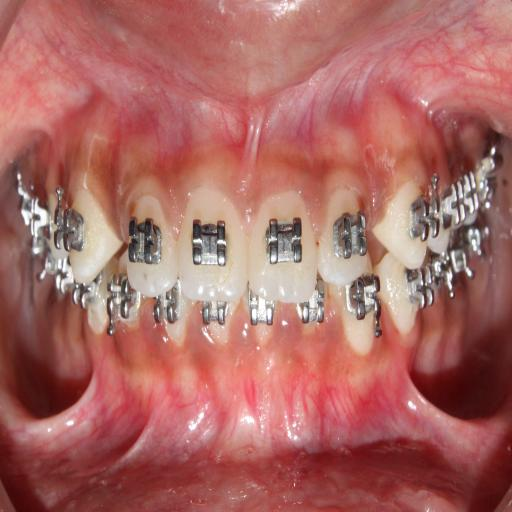correct_brace: (126, 212, 165, 276), (262, 212, 307, 265), (191, 216, 229, 272), (331, 208, 368, 261), (408, 188, 442, 243), (51, 206, 88, 256)
incorrect_brace: (123, 185, 176, 298), (321, 188, 373, 288)
